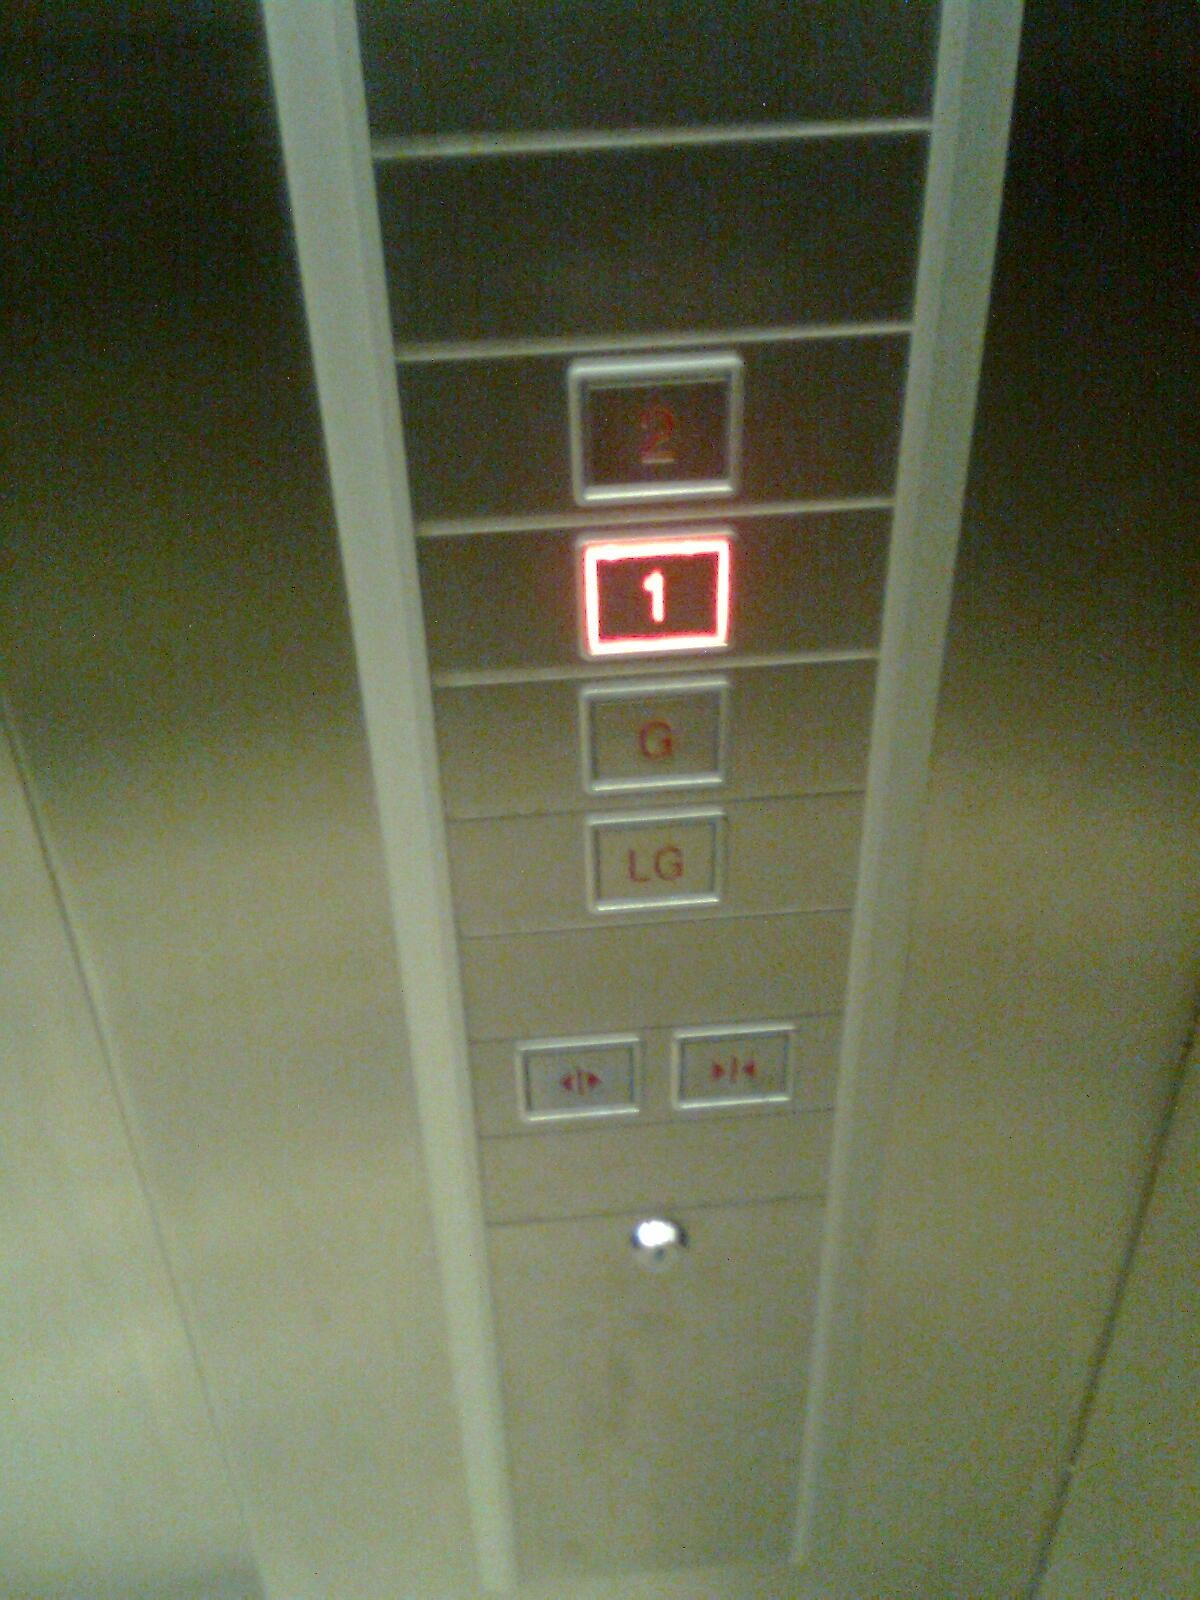1: (572, 525, 739, 663)
2: (563, 350, 747, 506)
G: (576, 677, 731, 799)
LG: (584, 808, 729, 916)
close: (667, 1022, 797, 1112)
open: (514, 1031, 645, 1124)
